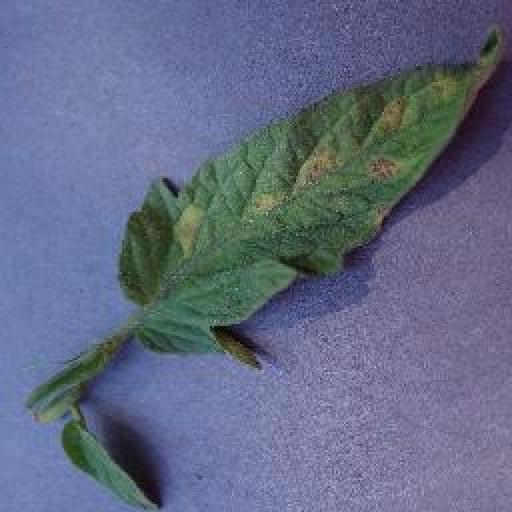disease_tomato: (120, 23, 503, 372)
